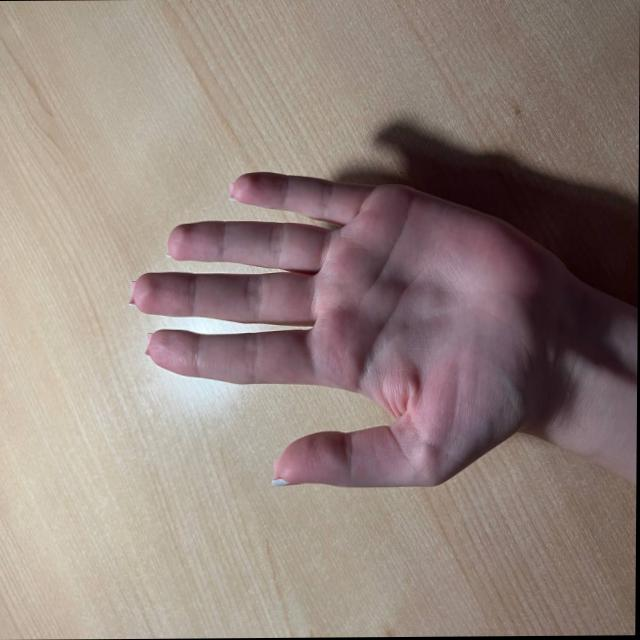v: (129, 174, 527, 495)
